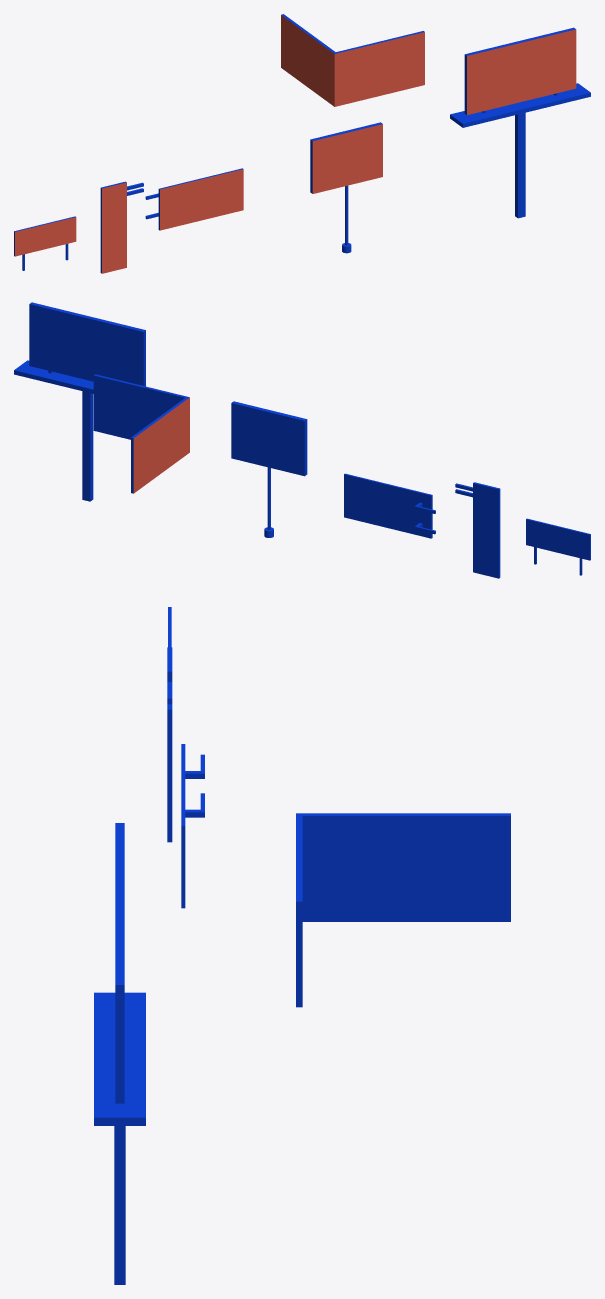
The model's file is sign_boards_pro.fbx.
3 views of the same model, one above another, from view 1: azimuth 30°, elevation 25°; view 2: azimuth 150°, elevation 25°; view 3: azimuth 270°, elevation 25° (orthographic). The views are drawn at different scales.
Parts seen in each view (by area): view 1: Board_Big, Board_Corner, Board_Pole, Board_Horiz, Board_Vertical, Board_Small; view 2: Board_Big, Board_Corner, Board_Pole, Board_Horiz, Board_Vertical, Board_Small; view 3: Board_Corner, Board_Big, Board_Horiz, Board_Vertical.
Part boxes in pixels (left/top/right/bottom): Board_Big: left=450, top=27, right=590, bottom=218; Board_Corner: left=281, top=14, right=424, bottom=106; Board_Pole: left=310, top=122, right=382, bottom=253; Board_Horiz: left=145, top=168, right=243, bottom=230; Board_Vertical: left=100, top=181, right=143, bottom=273; Board_Small: left=14, top=216, right=76, bottom=270; Board_Big: left=14, top=302, right=145, bottom=501; Board_Corner: left=93, top=374, right=189, bottom=493; Board_Pole: left=231, top=401, right=307, bottom=537; Board_Horiz: left=344, top=473, right=435, bottom=538; Board_Vertical: left=455, top=482, right=500, bottom=578; Board_Small: left=526, top=518, right=590, bottom=575; Board_Corner: left=296, top=813, right=510, bottom=1007; Board_Big: left=94, top=878, right=145, bottom=1284; Board_Horiz: left=181, top=744, right=204, bottom=908; Board_Vertical: left=167, top=647, right=172, bottom=842.
Size of the model in its own units: 11014 by 3297 by 3566.
